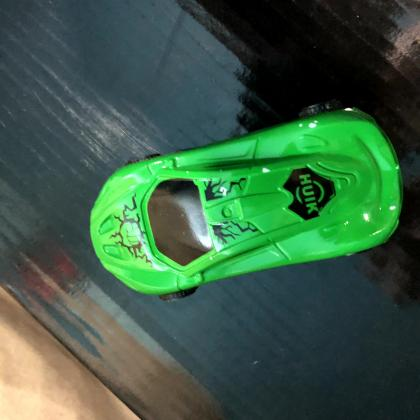Car: (89, 99, 407, 300)
